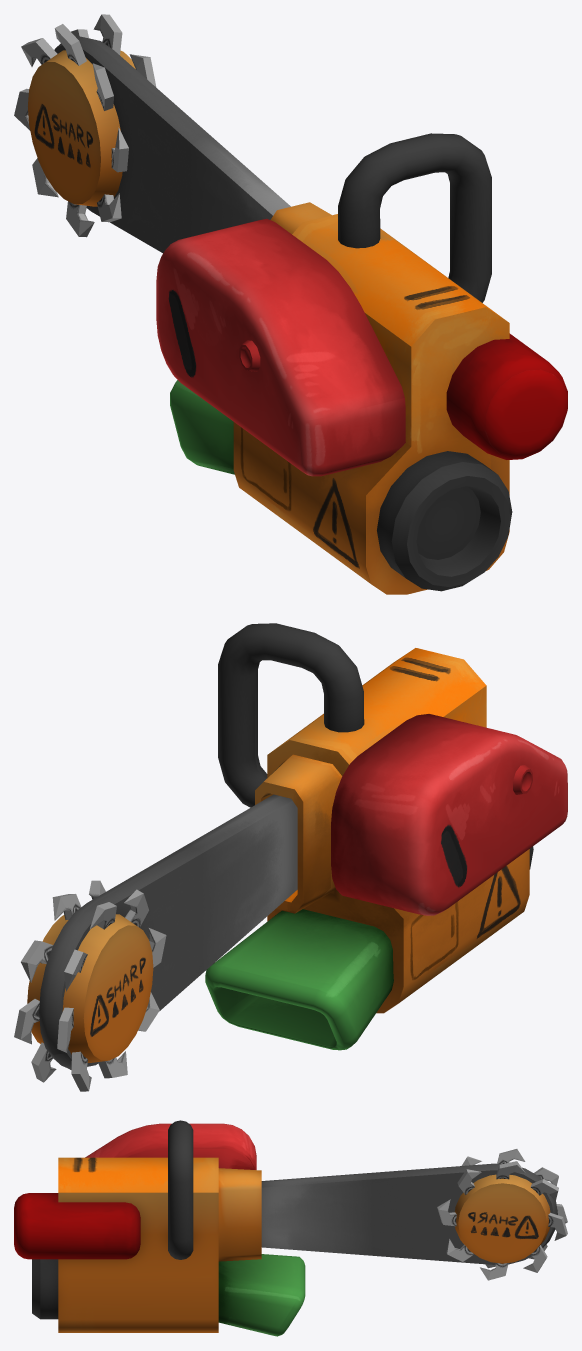
File: Chainsaw.fbx
3 views of the same model, one above another, from view 1: azimuth 30°, elevation 25°; view 2: azimuth 150°, elevation 25°; view 3: azimuth 270°, elevation 25° (orthographic). The views are drawn at different scales.
Visible parts, largest first — view 1: Cube.002, Cylinder.005, Cylinder.004, Cylinder.006; view 2: Cube.002, Cylinder.005; view 3: Cube.002, Cylinder.005, Cylinder.006, Cylinder.004.
Boxes of the visible parts, x1=… form: Cube.002: x1=54, y1=35, x2=509, y2=594; Cylinder.005: x1=14, y1=14, x2=156, y2=237; Cylinder.004: x1=377, y1=451, x2=512, y2=591; Cylinder.006: x1=446, y1=333, x2=567, y2=459; Cube.002: x1=39, y1=623, x2=567, y2=1069; Cylinder.005: x1=14, y1=880, x2=166, y2=1091; Cube.002: x1=58, y1=1120, x2=557, y2=1336; Cylinder.005: x1=437, y1=1149, x2=567, y2=1280; Cylinder.006: x1=14, y1=1193, x2=140, y2=1259; Cylinder.004: x1=32, y1=1259, x2=58, y2=1319.
Bounding box in the file's own units: 246 × 295 × 690.
Materials: 1 (1 with a texture image).
